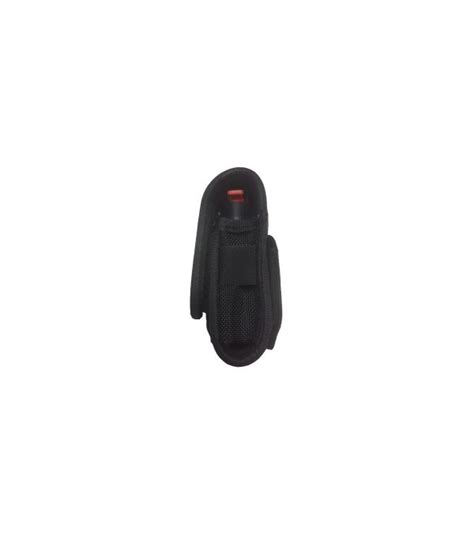nylon: (188, 168, 283, 369)
